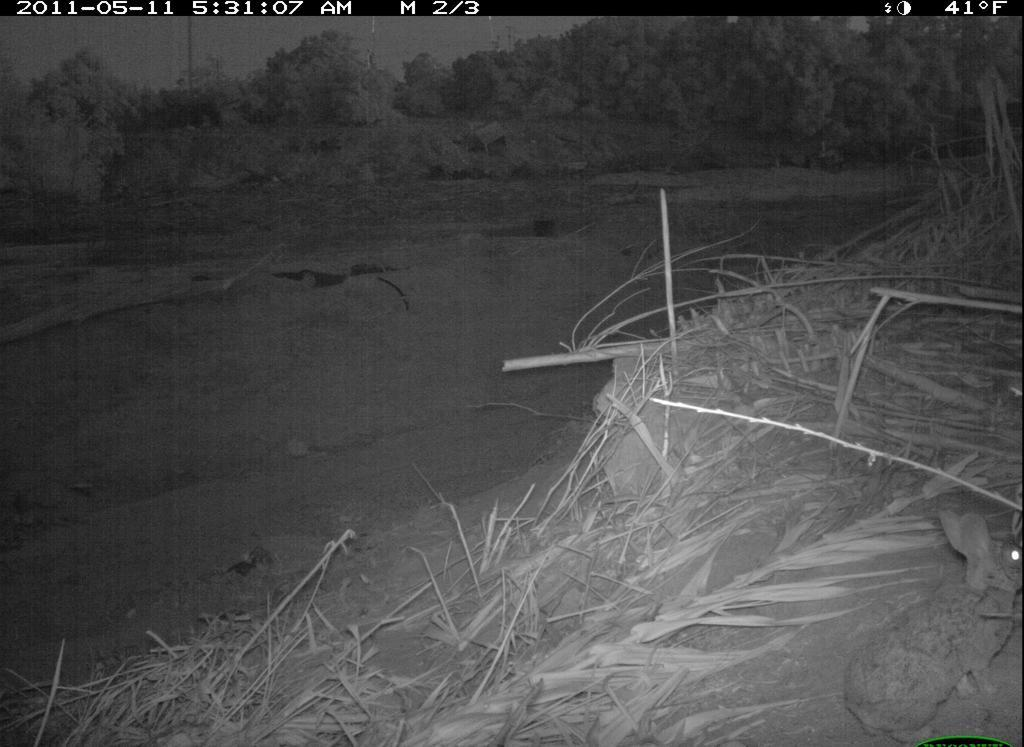rabbit: (838, 500, 1019, 744)
